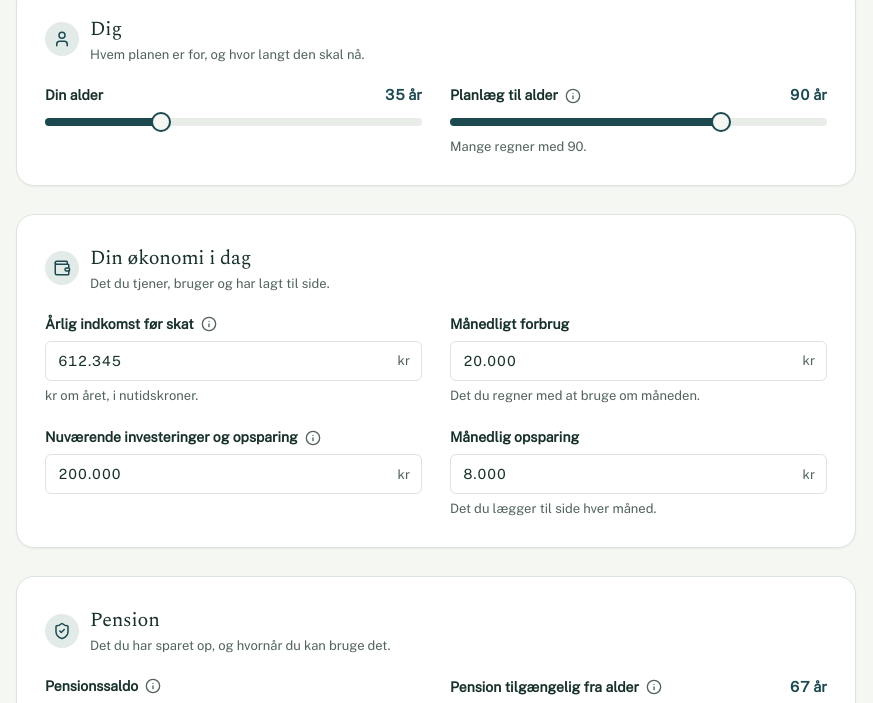
class 2: every numeric write is clamped in code (not just min= attributes) › kroner fields show Danish thousands separators and read them back
The image size is (873, 703).
Later steps or results of the test are not shown.
(page scrolled)
A digit typed into the middle of "123.456" regroups the whole number.
Replace the text in the field labelled "Årlig indkomst før skat" with "123.4567" at coordinates (234, 361), box [45, 341, 422, 381]
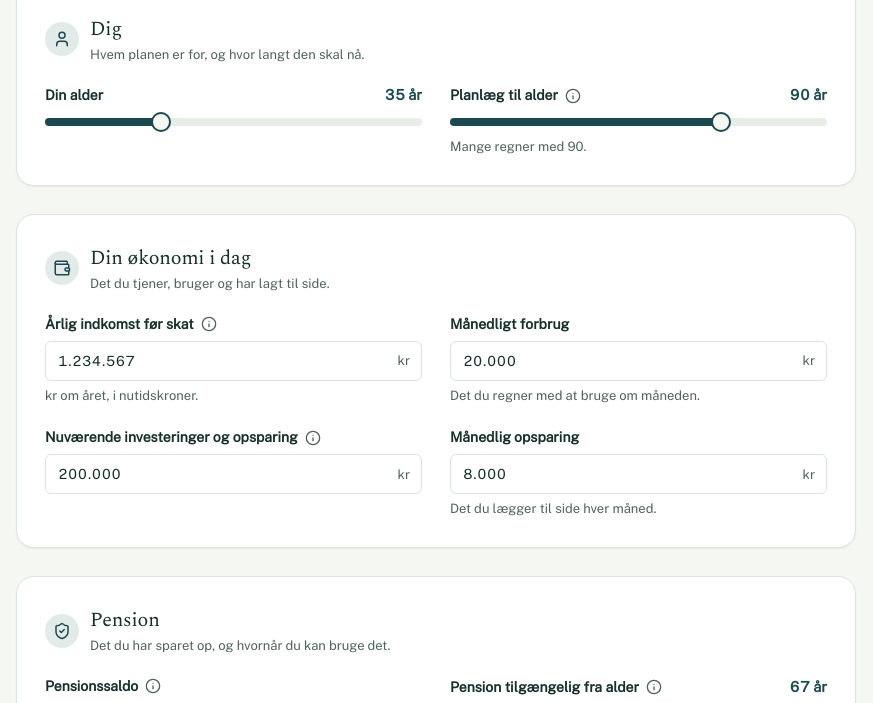
Check: the field labelled "Årlig indkomst før skat" holds "1.234.567", box [45, 341, 422, 381]
